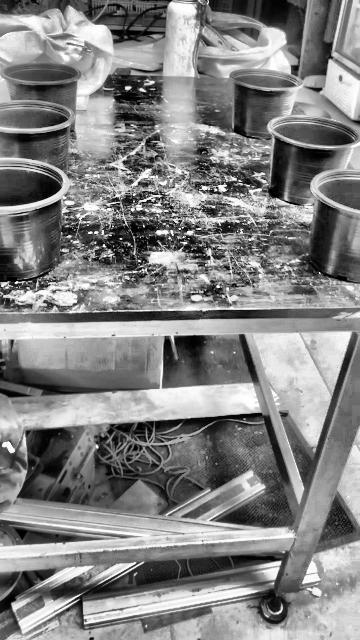pot: (0, 158, 66, 283), (269, 116, 359, 204), (309, 170, 359, 282), (0, 99, 75, 173), (229, 69, 302, 138), (1, 63, 81, 113), (104, 473, 139, 501)
